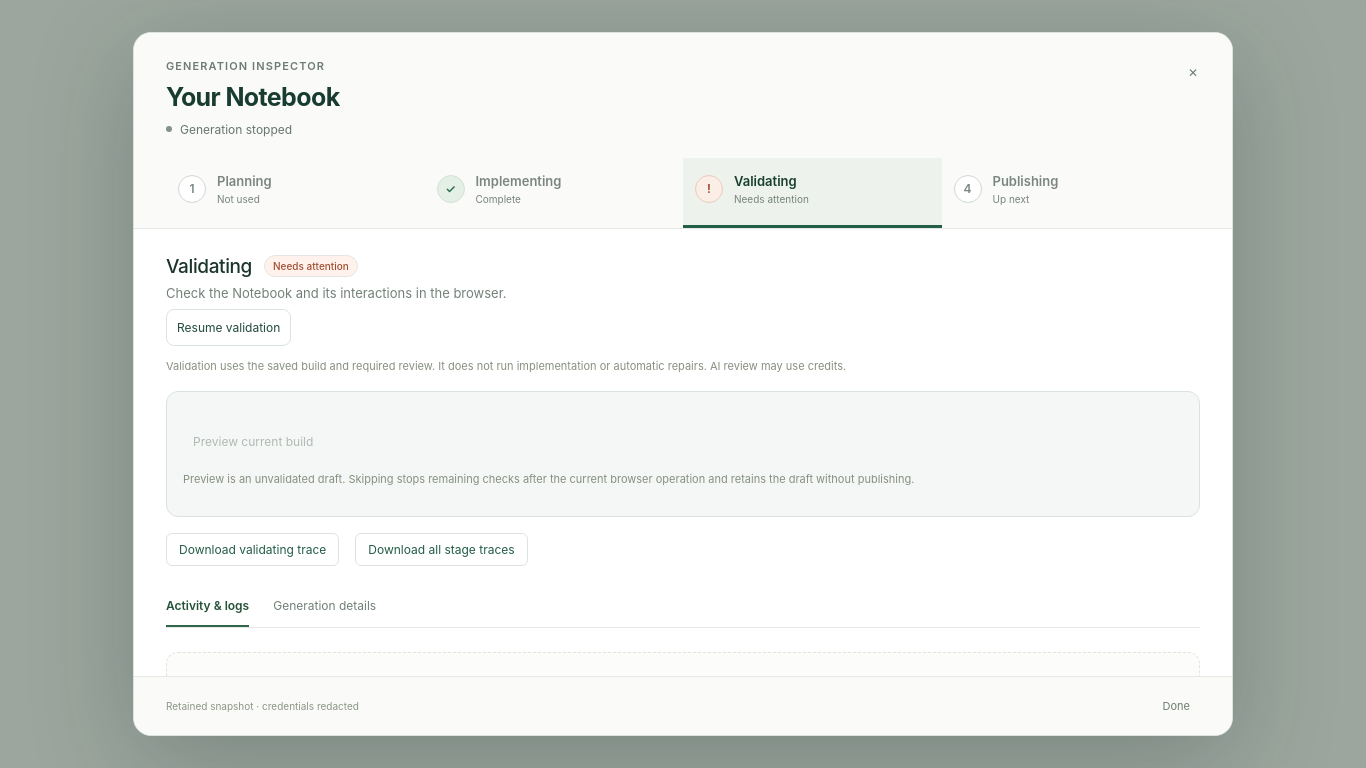
Test: resumes the selected stopped stage in a new attempt
Step 1. Click the button "Resume validation" → (229, 327), box left=166, top=308, right=291, bottom=346
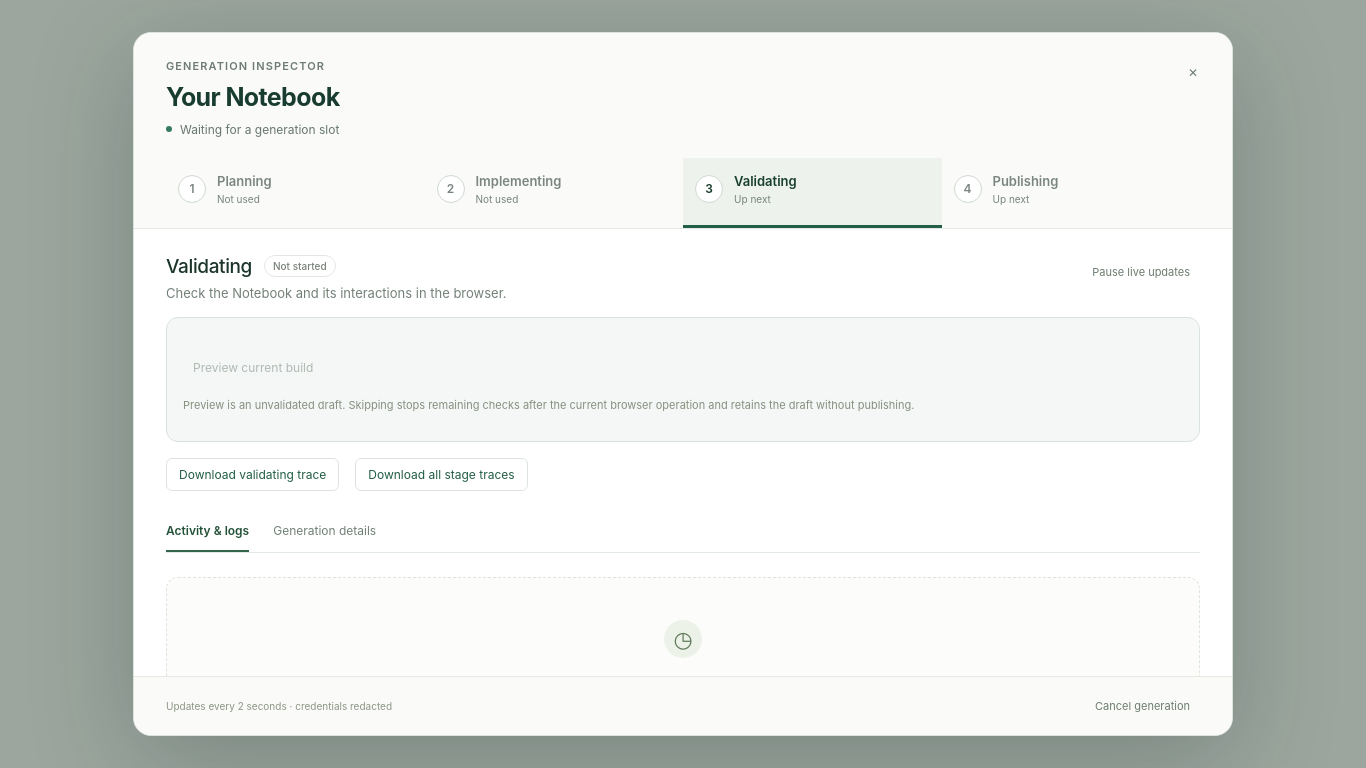
Expected: the button "Pause live updates" is shown, left=1082, top=254, right=1200, bottom=288
